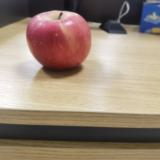apple: (26, 10, 91, 71)
